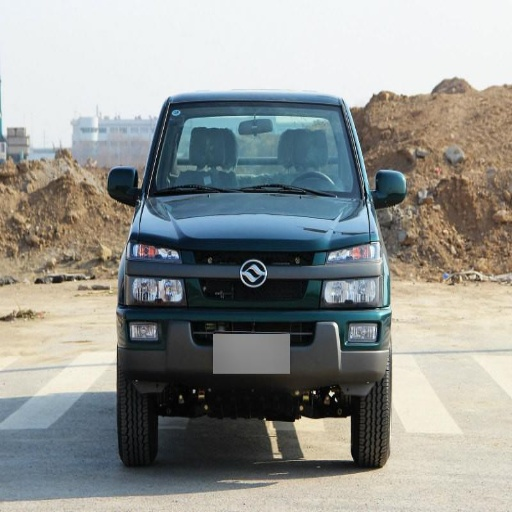back_right_light: (122, 247, 390, 393)
front_bumper: (152, 104, 364, 204)
front_left_door: (326, 242, 387, 305)
front_right_light: (139, 196, 372, 251)
hood: (372, 170, 407, 208)
left_mirror: (106, 167, 141, 203)
trunk: (119, 352, 158, 465), (350, 372, 389, 468)
